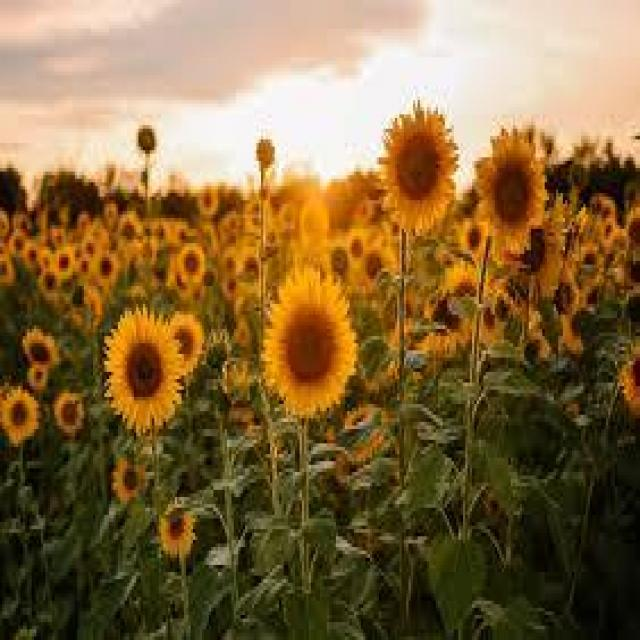organic waste: (258, 270, 364, 424), (474, 122, 563, 261), (376, 102, 457, 245), (103, 318, 187, 444), (162, 307, 208, 372), (159, 504, 200, 565), (23, 329, 68, 372), (5, 392, 46, 434), (54, 397, 84, 443)
